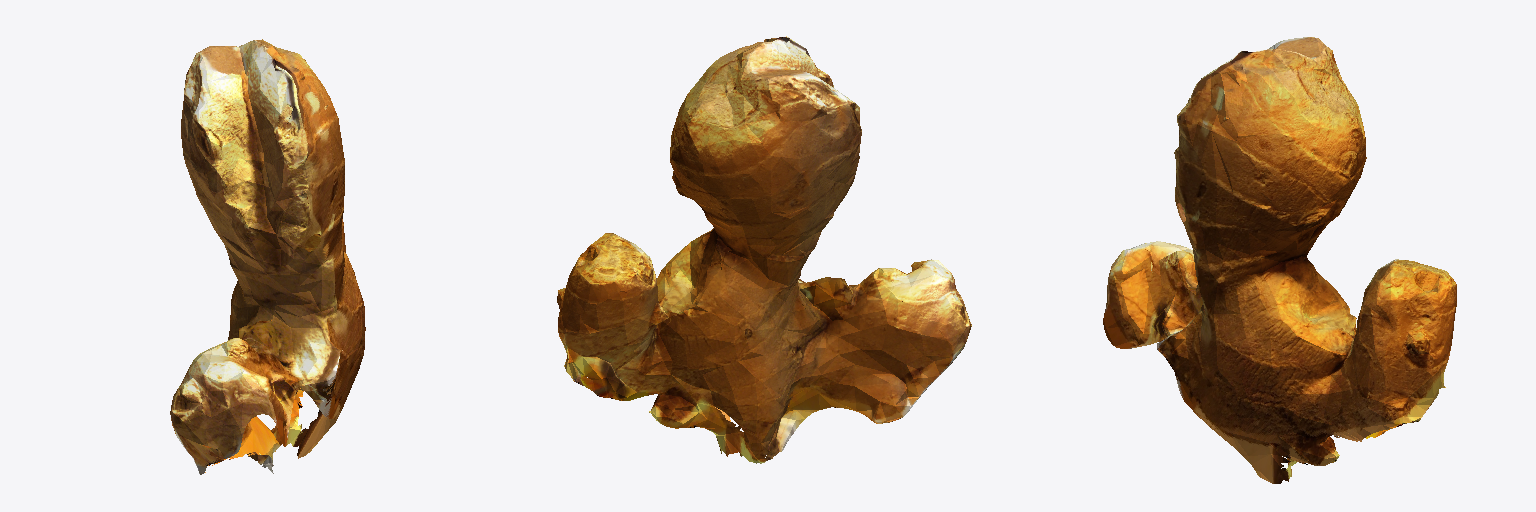
3 views of the same model, side by side, from view 1: azimuth 30°, elevation 25°; view 2: azimuth 150°, elevation 25°; view 3: azimuth 270°, elevation 25° (orthographic).
Visible parts, largest first — view 1: LQTexture_6; view 2: LQTexture_6; view 3: LQTexture_6.
Part boxes in pixels (x1,y1,x2,y2): LQTexture_6: (170, 39, 365, 474); LQTexture_6: (557, 36, 971, 463); LQTexture_6: (1103, 37, 1456, 483).
Bounding box in the file's own units: 18.16 × 25.77 × 19.62.
Materials: 2 (2 with a texture image).